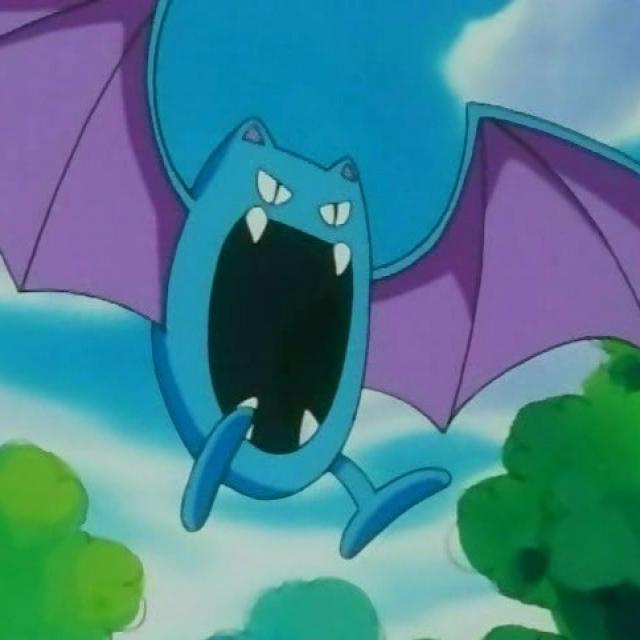Golbat: (76, 82, 497, 564)
